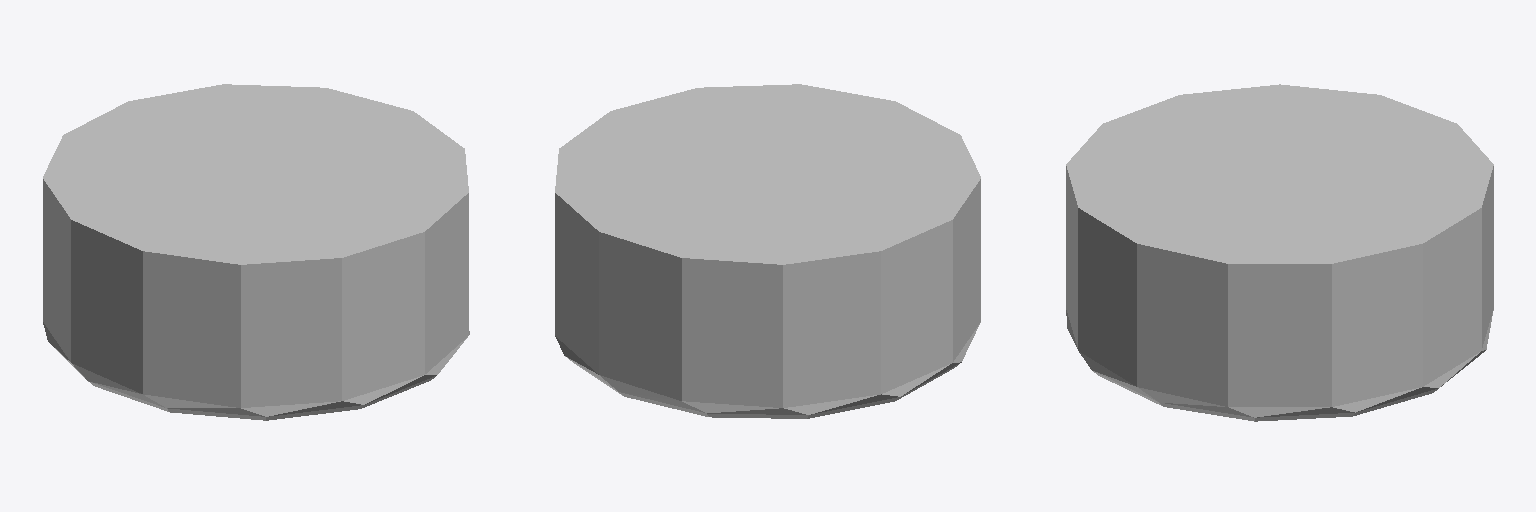
File: WFB-Menu.obj
3 renders of one model, left to right at view 1: azimuth 30°, elevation 25°; view 2: azimuth 150°, elevation 25°; view 3: azimuth 270°, elevation 25°, orthographic.
Parts seen in each view (by area): view 1: WFB-Menu; view 2: WFB-Menu; view 3: WFB-Menu.
Boxes of the visible parts, x1=… form: WFB-Menu: x1=43, y1=84, x2=469, y2=420; WFB-Menu: x1=555, y1=84, x2=980, y2=418; WFB-Menu: x1=1066, y1=84, x2=1493, y2=421.
Bounding box in the file's own units: 5.94 × 2.5 × 5.96.